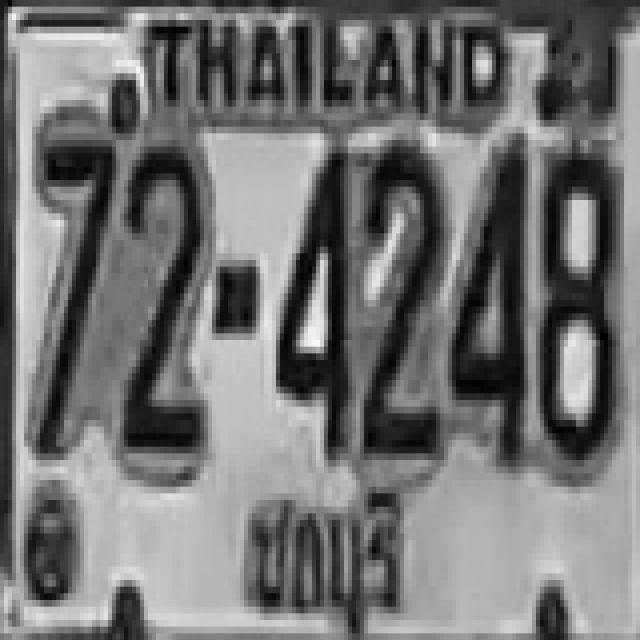2: (116, 153, 204, 467), (118, 140, 202, 453), (360, 136, 440, 456)
4: (448, 137, 524, 463), (272, 137, 348, 443)
7: (26, 130, 114, 450)
8: (536, 144, 616, 464)
CBI: (235, 477, 439, 640)
